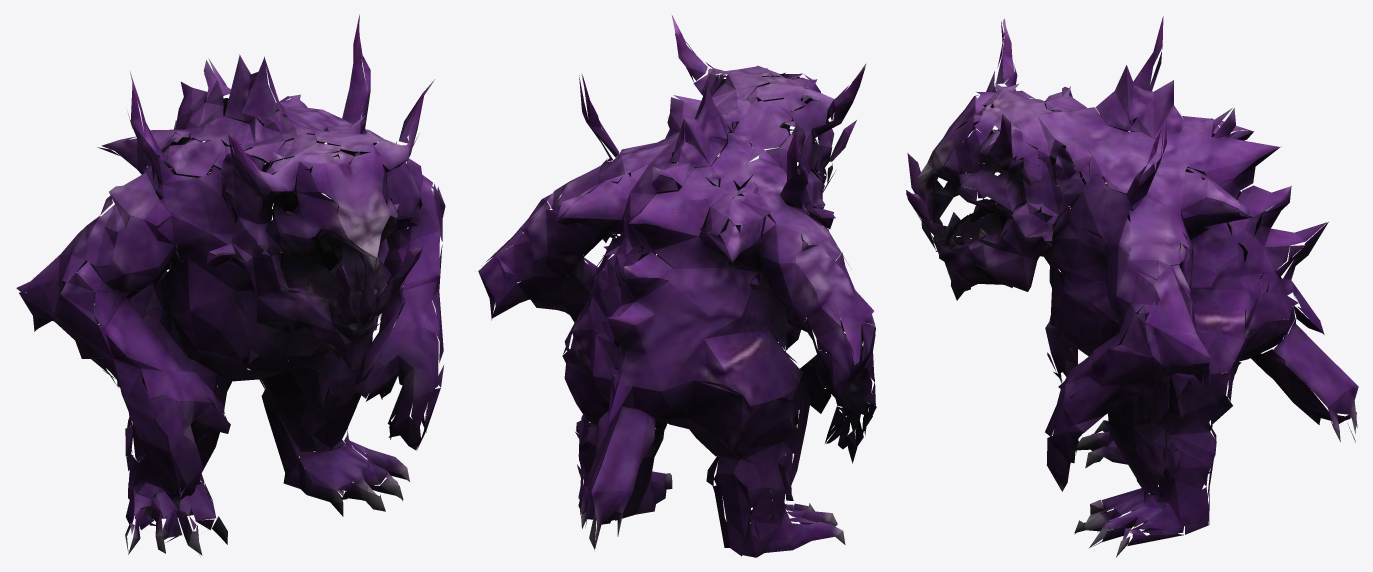
The picture shows the model from 3 angles, left to right: view 1: azimuth 30°, elevation 25°; view 2: azimuth 150°, elevation 25°; view 3: azimuth 270°, elevation 25°; orthographic projection. The views are drawn at different scales.
Parts seen in each view (by area): view 1: world; view 2: world; view 3: world.
Part boxes in pixels (left/top/right/bottom): world: left=16, top=14, right=445, bottom=556; world: left=478, top=15, right=876, bottom=557; world: left=906, top=16, right=1358, bottom=557.
Bounding box in the file's own units: 0.9274 × 1 × 0.9562.
1 material, 1 textured.
